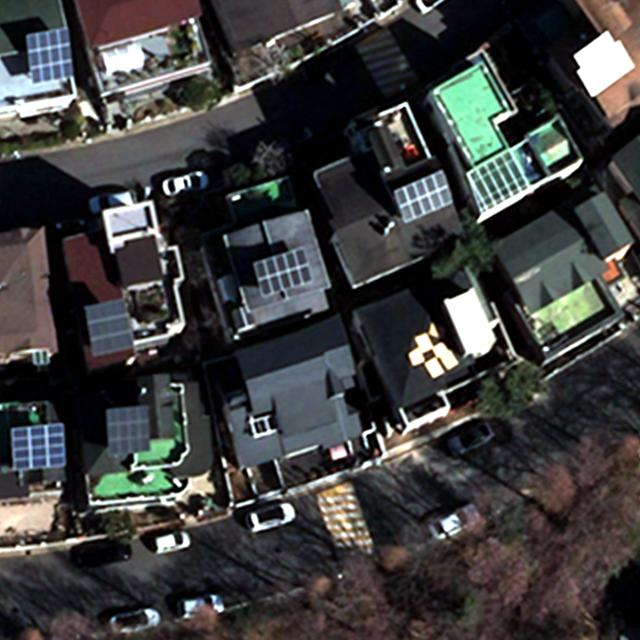panel: (391, 167, 456, 226), (253, 244, 318, 302), (7, 419, 68, 477), (82, 296, 138, 358), (24, 25, 78, 84), (103, 404, 153, 451)
